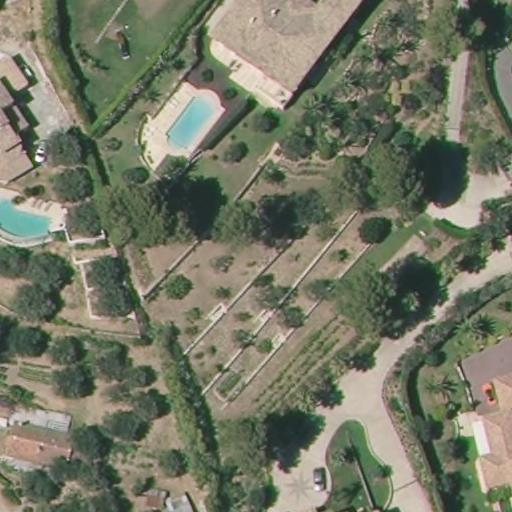pool: (162, 90, 222, 154), (0, 188, 58, 246)
